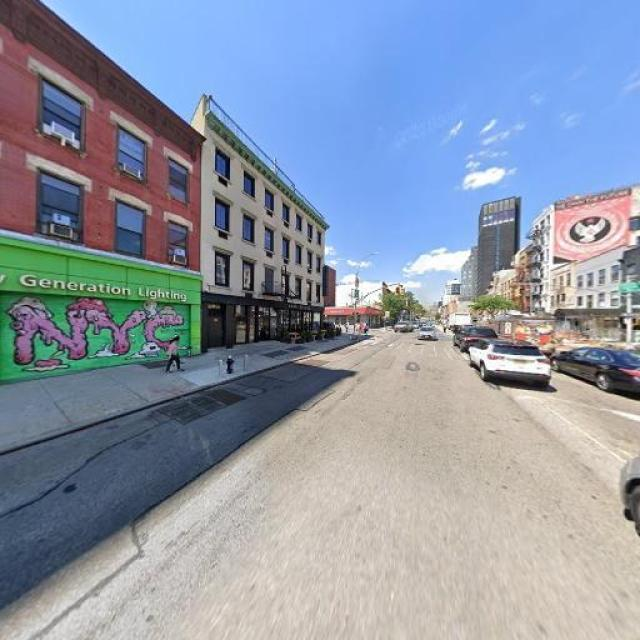Building: (1, 1, 200, 383), (203, 117, 323, 352)
